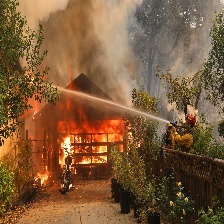fire: (33, 119, 125, 183)
smoke: (25, 2, 143, 87)
